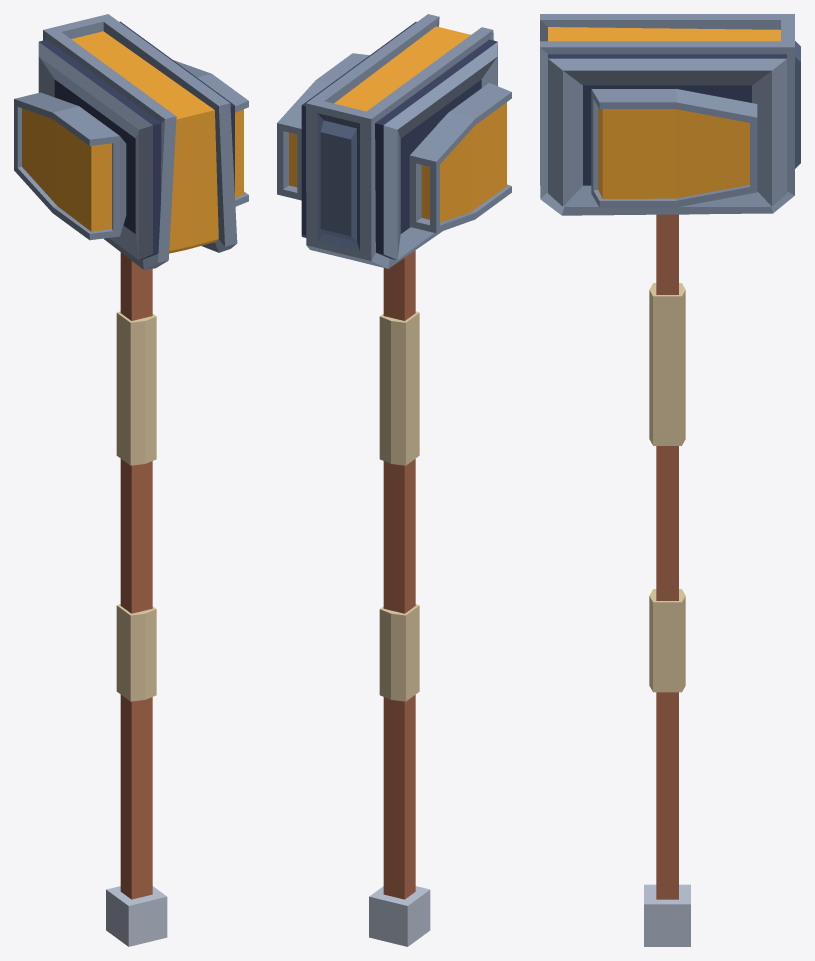
File: large-hammer-2h.fbx
3 renders of one model, left to right at view 1: azimuth 30°, elevation 25°; view 2: azimuth 150°, elevation 25°; view 3: azimuth 270°, elevation 25°, orthographic. The views are drawn at different scales.
Parts seen in each view (by area): view 1: Cube; view 2: Cube; view 3: Cube.
Part boxes in pixels (x1,y1,x2,y2): Cube: (14, 14, 248, 946); Cube: (277, 14, 511, 946); Cube: (540, 14, 800, 946).
Bounding box in the file's own units: 815 × 4239 × 1106.
